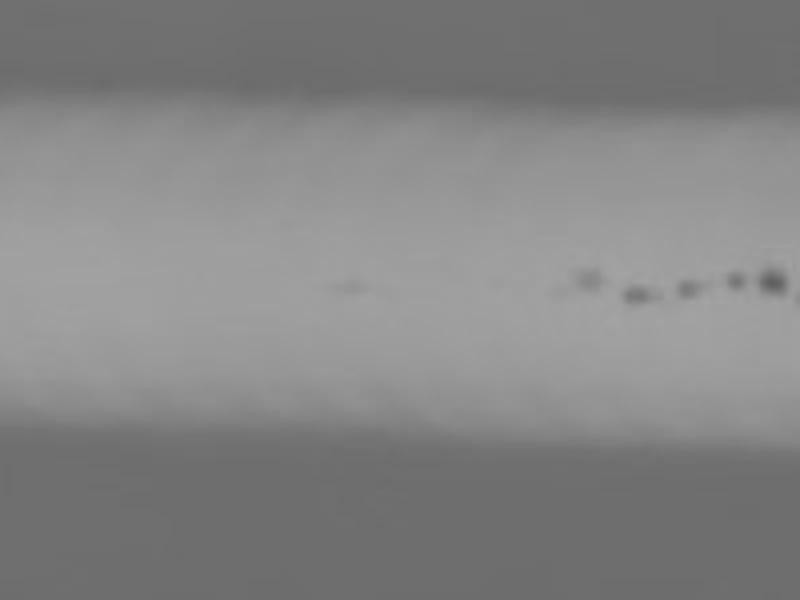defect: (324, 273, 381, 295), (758, 263, 790, 298), (573, 262, 605, 295), (622, 283, 661, 306), (675, 276, 702, 302), (719, 268, 747, 293)
